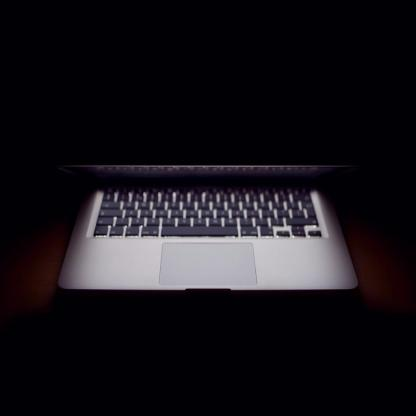board: (60, 115, 378, 296)
